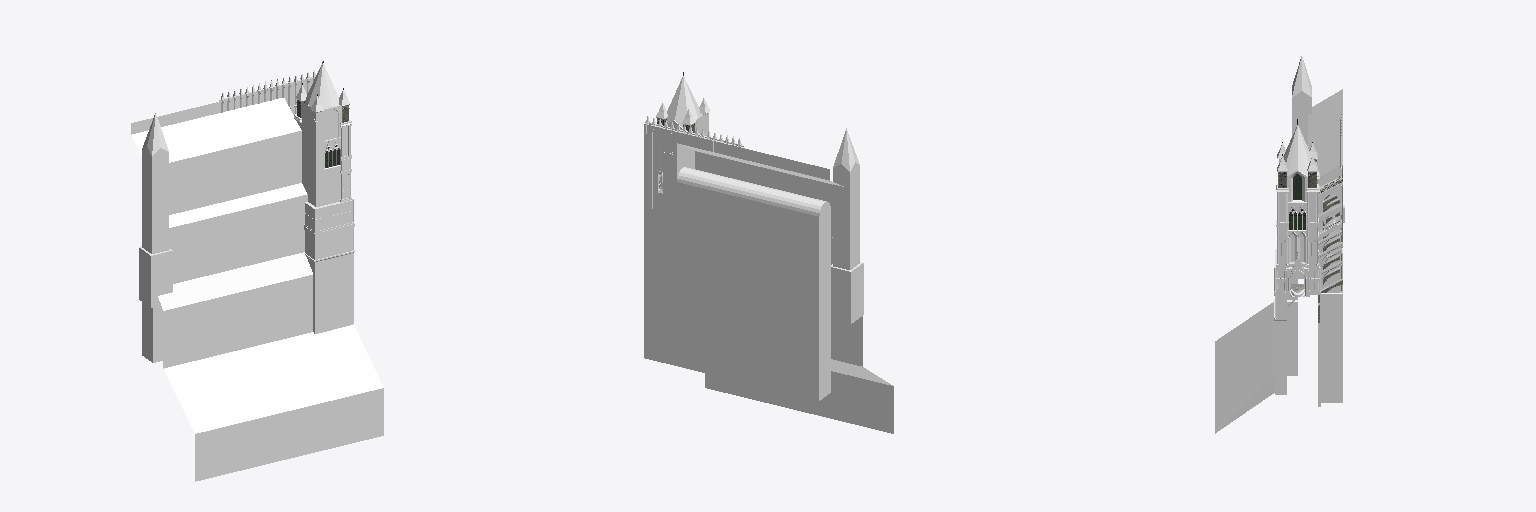
3 renders of one model, left to right at view 1: azimuth 30°, elevation 25°; view 2: azimuth 150°, elevation 25°; view 3: azimuth 270°, elevation 25°, orthographic.
Visible parts, largest first — view 1: mesh0, mesh1, mesh4, mesh13; view 2: mesh0, mesh1; view 3: mesh1, mesh0, mesh13, mesh15.
Boxes of the visible parts, x1=… form: mesh0: x1=131, y1=76, x2=383, y2=481; mesh1: x1=131, y1=63, x2=383, y2=433; mesh4: x1=315, y1=137, x2=352, y2=259; mesh13: x1=221, y1=70, x2=354, y2=261; mesh0: x1=644, y1=110, x2=893, y2=433; mesh1: x1=656, y1=76, x2=892, y2=385; mesh1: x1=1215, y1=56, x2=1342, y2=433; mesh0: x1=1274, y1=91, x2=1342, y2=406; mesh13: x1=1274, y1=114, x2=1344, y2=319; mesh15: x1=1284, y1=166, x2=1342, y2=290.
Size of the model in its own units: 92.23 by 158 by 51.91.
Materials: 28 (9 with a texture image).